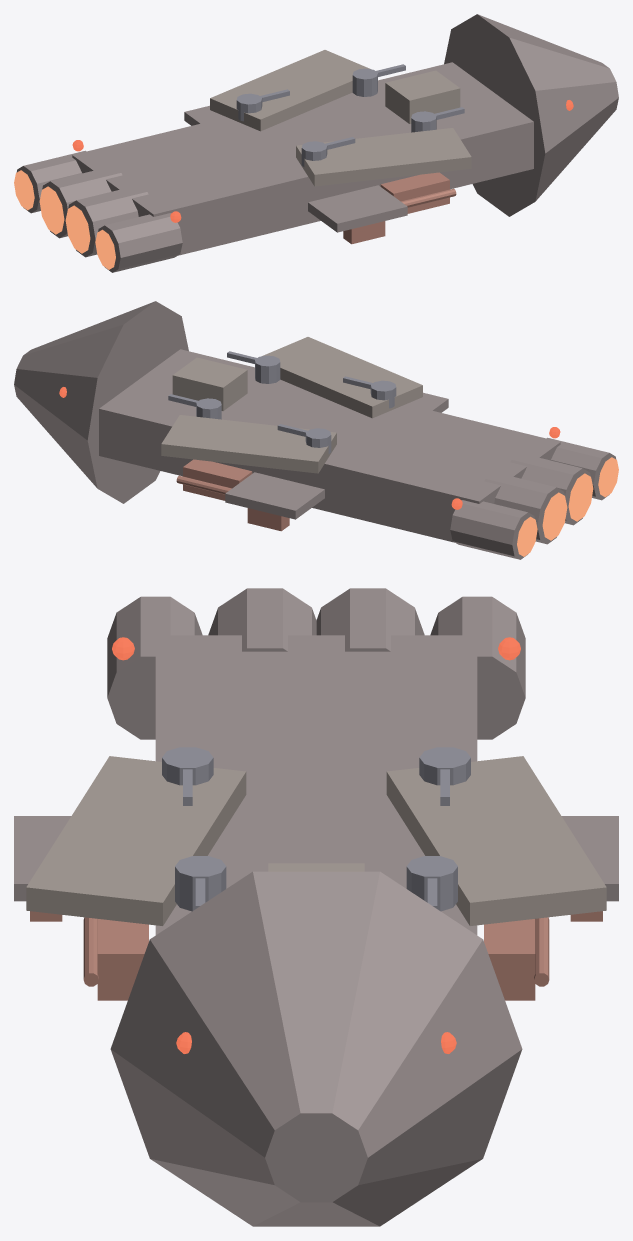
Rendered from mercenary_cruiser.glb.
3 views of the same model, one above another, from view 1: azimuth 30°, elevation 25°; view 2: azimuth 150°, elevation 25°; view 3: azimuth 270°, elevation 25° (orthographic). The views are drawn at different scales.
Parts seen in each view (by area): view 1: Hull, Nose, Armor-1, Armor1, Eng-0.25, WingStub-1, Bridge, Eng-0.08, Eng0.08, MslBay-1, Eng0.25, Glow-0.08 (+9 smaller); view 2: Hull, Nose, Armor1, Armor-1, Eng0.25, WingStub1, Bridge, Eng0.08, Eng-0.08, MslBay1, Eng-0.25, Glow-0.08 (+9 smaller); view 3: Nose, Hull, Armor-1, Armor1, Eng-0.25, Eng0.25, Eng-0.08, Eng0.08, MslBay-1, MslBay1, WingStub-1, WingStub1 (+5 smaller).
Boxes of the visible parts, x1,y1,x2,y2 form: Hull: (72,62,533,255); Nose: (444,14,618,216); Armor-1: (296,128,471,186); Armor1: (210,50,370,131); Eng-0.25: (98,213,182,272); WingStub-1: (308,185,407,232); Bridge: (385,70,460,123); Eng-0.08: (68,185,148,257); Eng0.08: (42,166,122,238); MslBay-1: (380,172,449,213); Eng0.25: (16,150,86,213); Glow-0.08: (65,205,90,253); Hull: (99,349,560,542); Nose: (14,301,188,503); Armor1: (161,415,336,473); Armor-1: (262,337,422,418); Eng0.25: (450,500,534,559); WingStub1: (225,472,324,519); Bridge: (172,357,247,410); Eng0.08: (484,472,564,544); Eng-0.08: (510,453,590,525); MslBay1: (183,459,252,500); Eng-0.25: (546,437,616,500); Glow-0.08: (568,473,593,521); Nose: (110,871,522,1226); Hull: (155,635,477,934); Armor-1: (26,756,246,925); Armor1: (386,756,606,925); Eng-0.25: (107,596,202,739); Eng0.25: (430,596,525,739); Eng-0.08: (208,588,316,651); Eng0.08: (316,588,424,651); MslBay-1: (97,919,148,1000); MslBay1: (484,919,535,1000); WingStub-1: (14,816,71,901); WingStub1: (561,816,618,901).
Size of the model in its own units: 1.92 by 0.6087 by 0.94.
